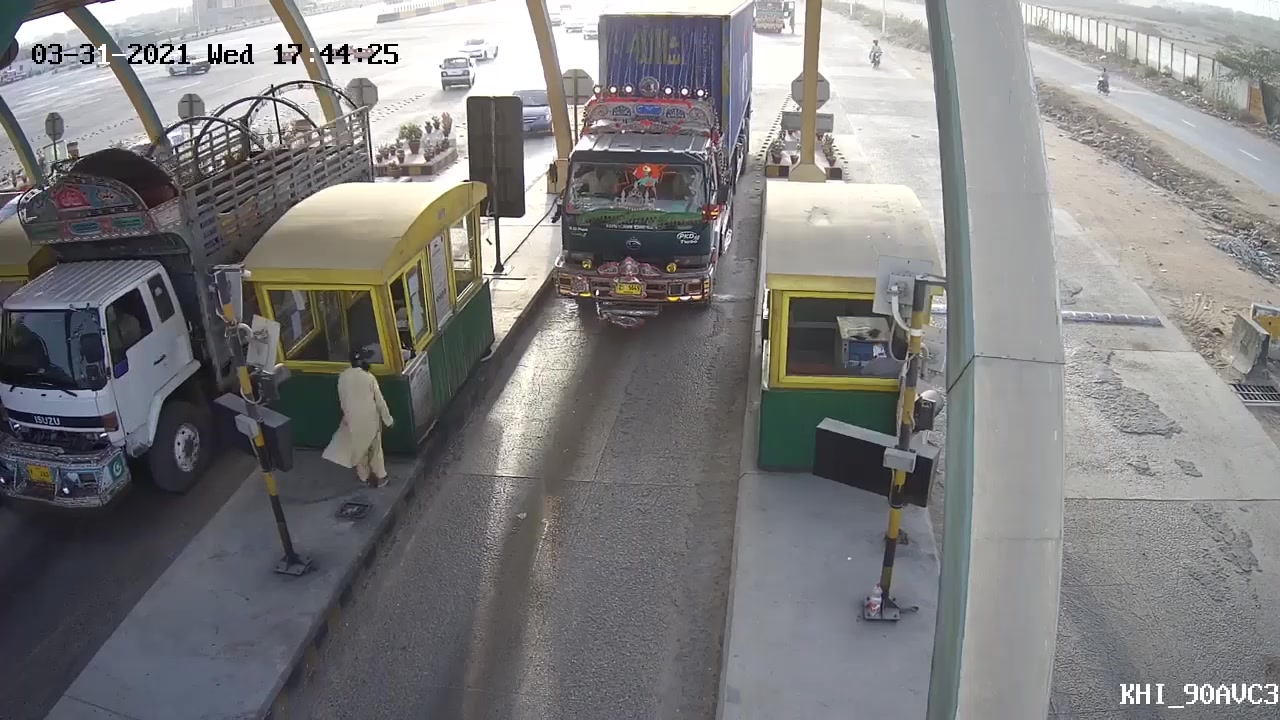F6: (545, 5, 758, 326)
